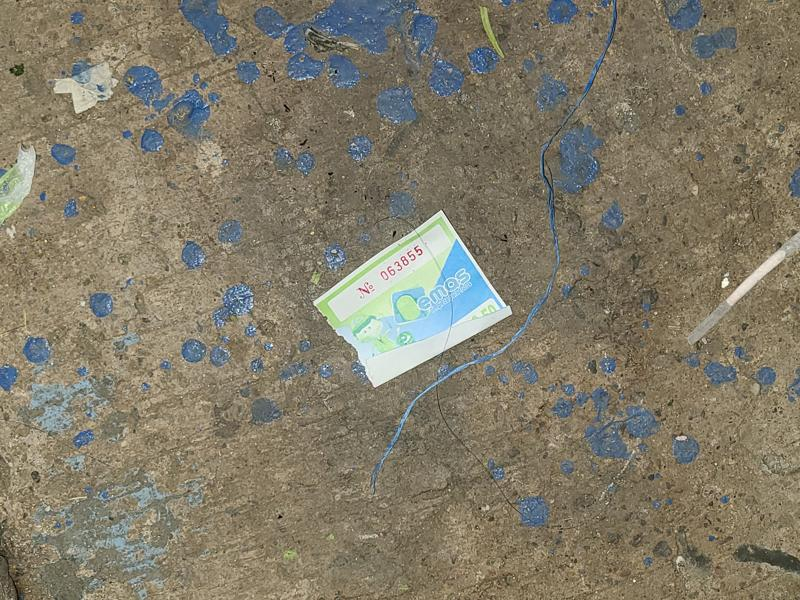papel: (313, 213, 512, 388)
